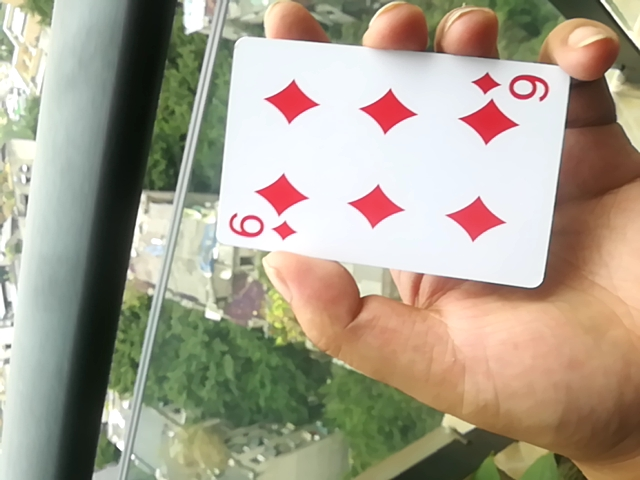fk 6: (213, 30, 569, 292)
